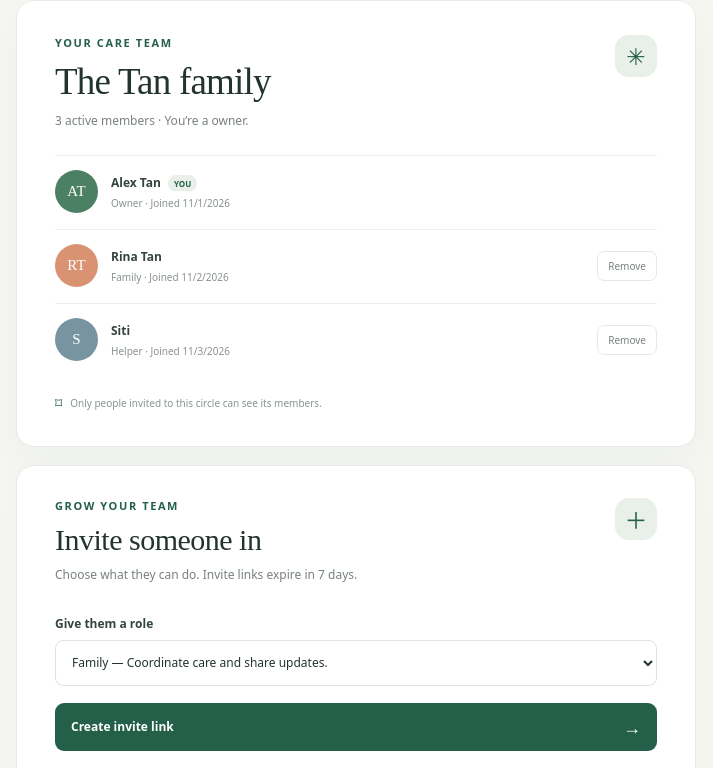
Test: CircleMembersPanel › confirms owner removal then refreshes the roster
The width and height of the screenshot is (713, 768).
Check: the text "Siti" is shown, box [111,322,130,339]
Click the button "Remove" in the row of "Siti": (627, 340) [597,325,657,355]
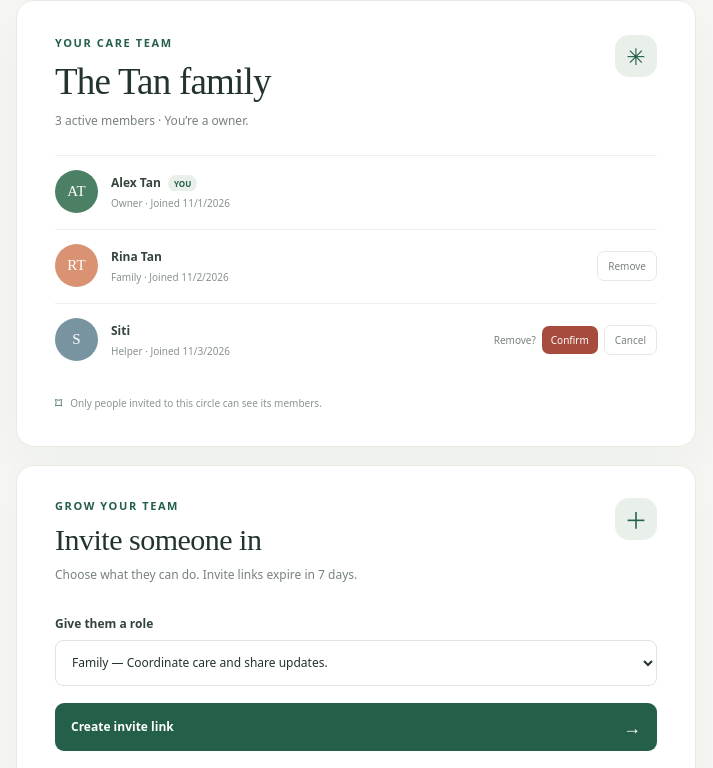
Check: the text "Remove?" is shown, box [494,333,536,347]
Click the button "Confirm": (570, 340) [542,326,598,354]
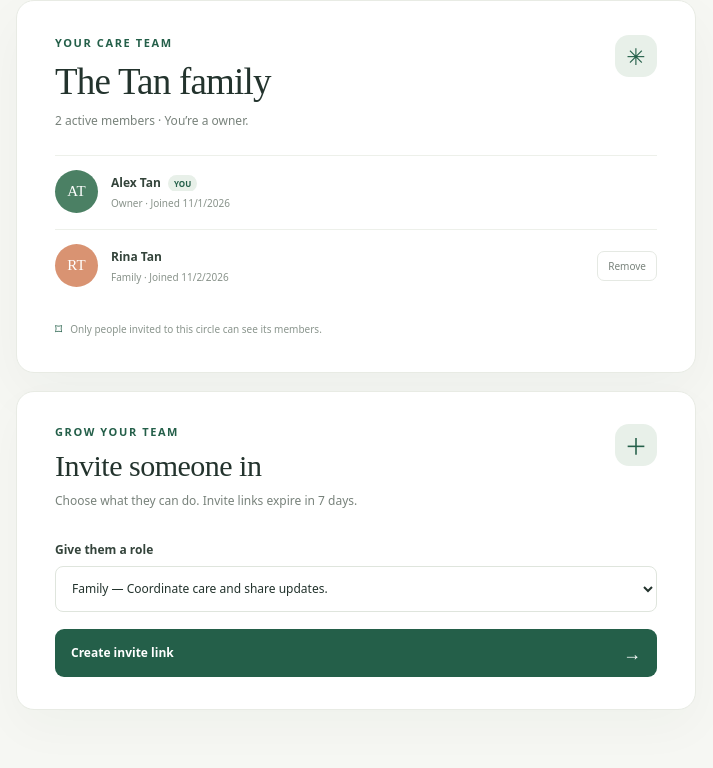
Check: the text "Siti" is gone
